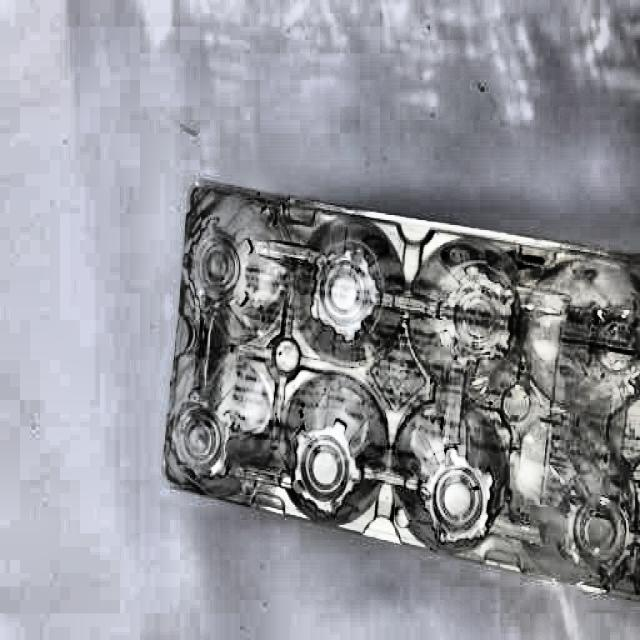plastic: (160, 173, 640, 587)
